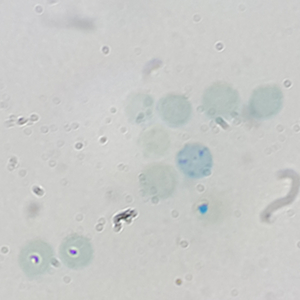aggregate reticulocyte: (175, 141, 215, 179)
erythrocyte: (199, 81, 242, 122), (137, 161, 180, 202), (16, 238, 56, 279), (247, 82, 285, 120), (57, 233, 93, 270), (155, 93, 193, 128), (123, 91, 158, 128), (136, 125, 173, 159)
